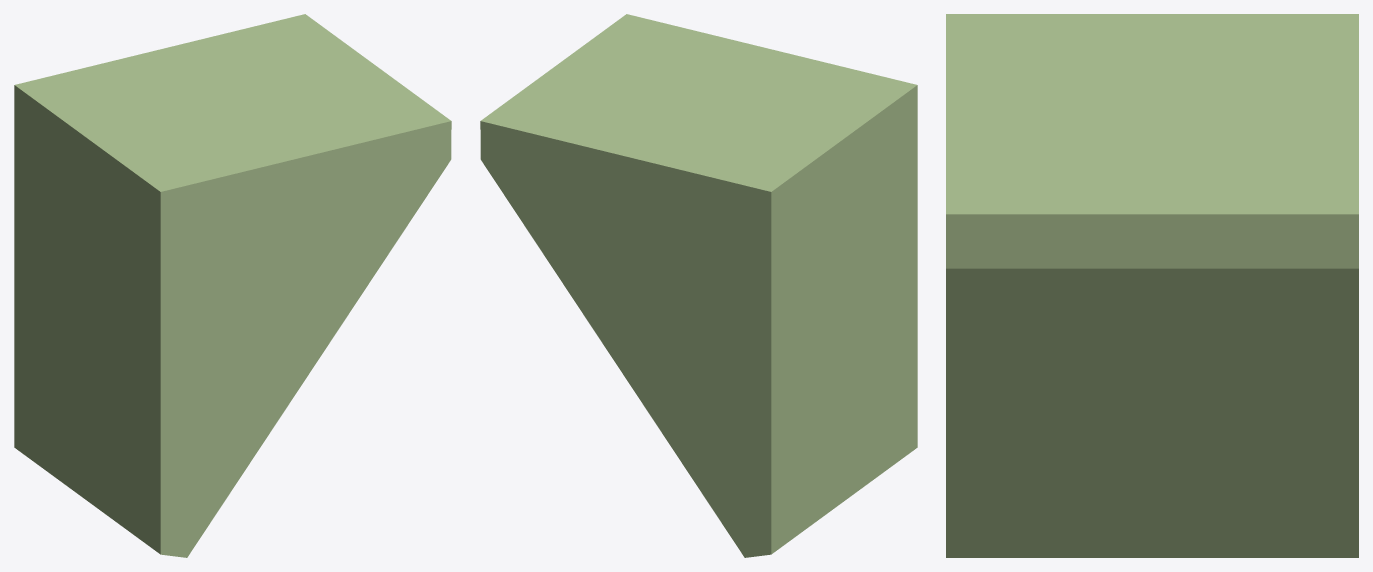
Rendered from stone_element_16_wall.fbx.
3 renders of one model, left to right at view 1: azimuth 30°, elevation 25°; view 2: azimuth 150°, elevation 25°; view 3: azimuth 270°, elevation 25°, orthographic. The views are drawn at different scales.
Parts seen in each view (by area): view 1: stone_element_16_wall; view 2: stone_element_16_wall; view 3: stone_element_16_wall.
Boxes of the visible parts, box(x1,y1,x2,y2) form: stone_element_16_wall: box(14, 14, 451, 557); stone_element_16_wall: box(480, 14, 917, 557); stone_element_16_wall: box(946, 14, 1358, 557).
Size of the model in its own units: 137 by 168 by 119.
